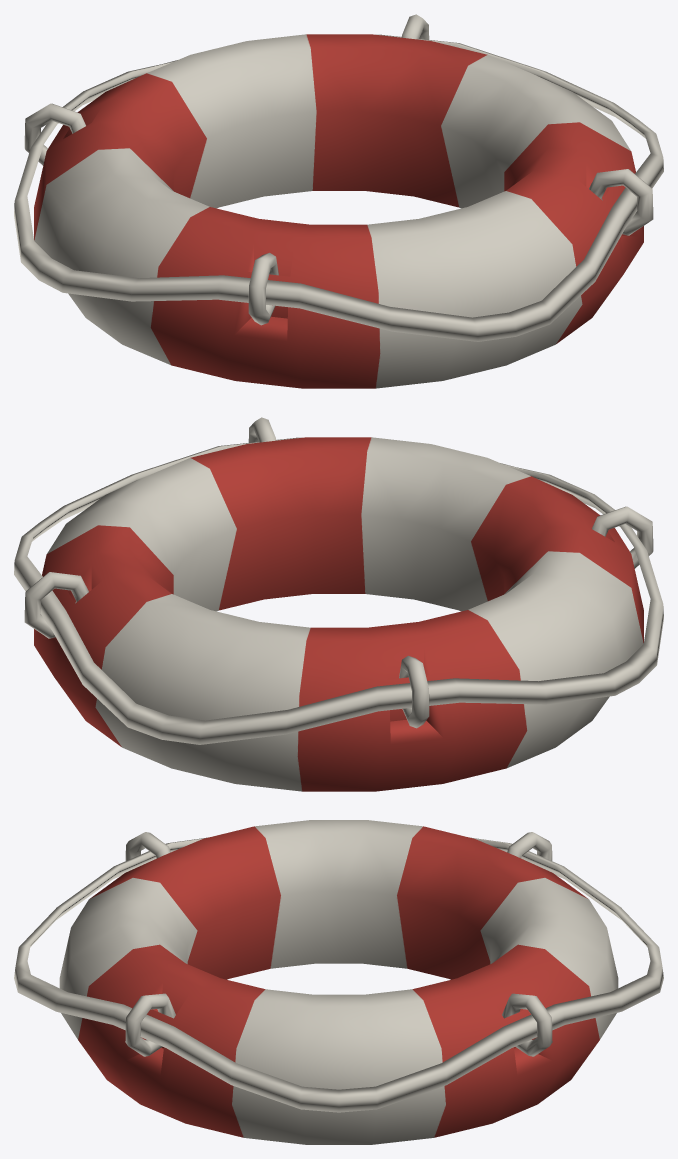
Rendered from lifesaver.fbx.
The picture shows the model from 3 angles, top to bottom: view 1: azimuth 30°, elevation 25°; view 2: azimuth 150°, elevation 25°; view 3: azimuth 270°, elevation 25°; orthographic projection. The views are drawn at different scales.
Visible parts, largest first — view 1: Torus.002; view 2: Torus.002; view 3: Torus.002.
Boxes of the visible parts, x1=… form: Torus.002: x1=14, y1=14, x2=663, y2=388; Torus.002: x1=14, y1=417, x2=663, y2=791; Torus.002: x1=14, y1=820, x2=663, y2=1144.
Bounding box in the file's own units: 297 × 65.2 × 304.
